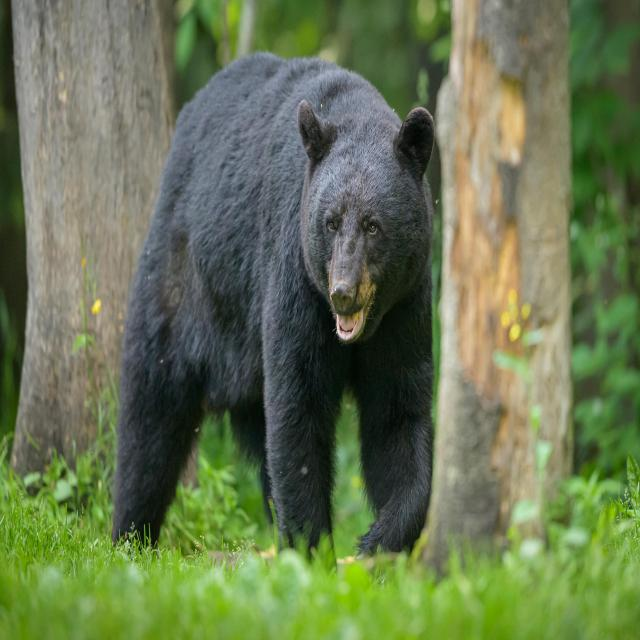Bear: (110, 53, 439, 557)
